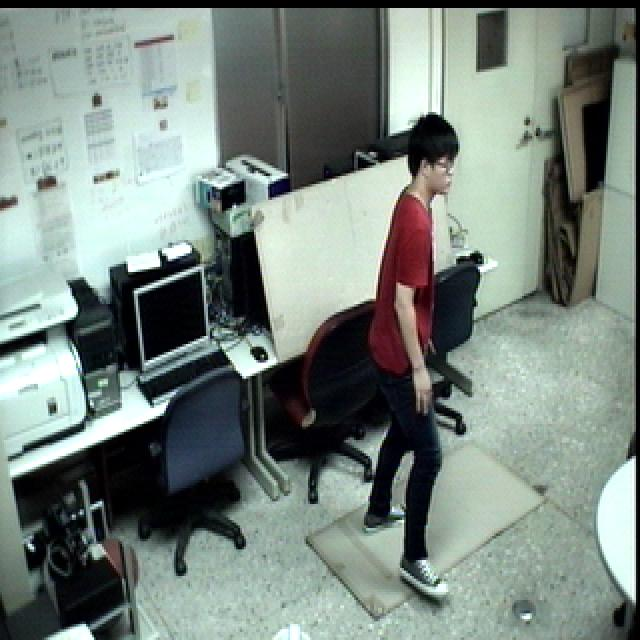stand: (352, 107, 485, 614)
